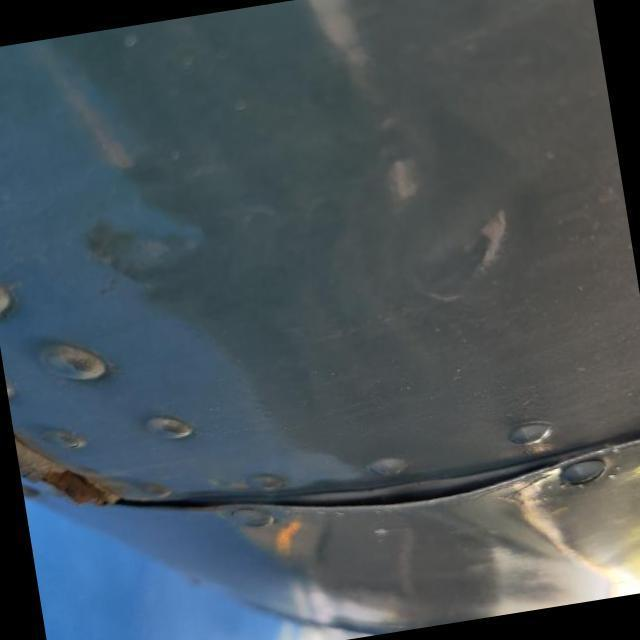dent: (276, 458, 582, 522), (410, 205, 530, 319), (81, 200, 200, 300)
